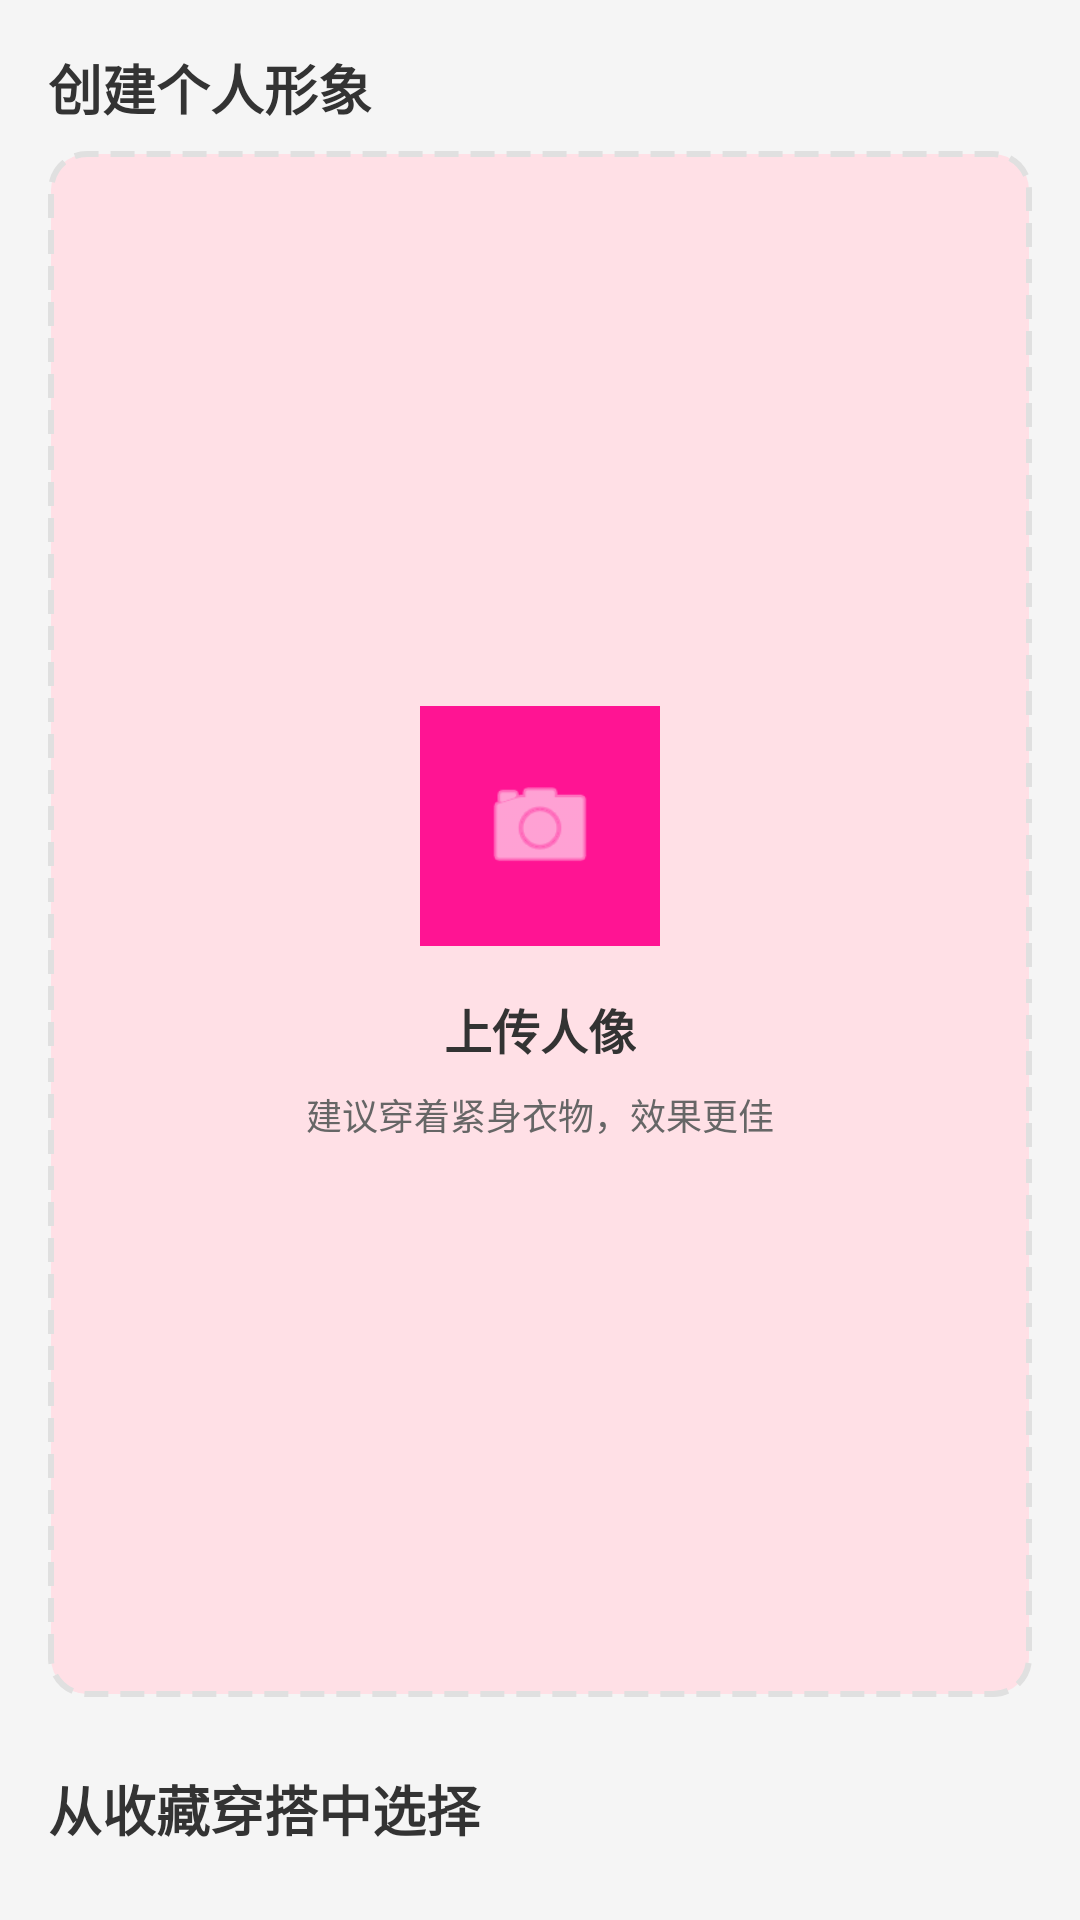

Icons on this 1080px×1920px Android screen, each with its box as (x1, y1, x2, y2):
camera: (494, 787, 586, 861)
